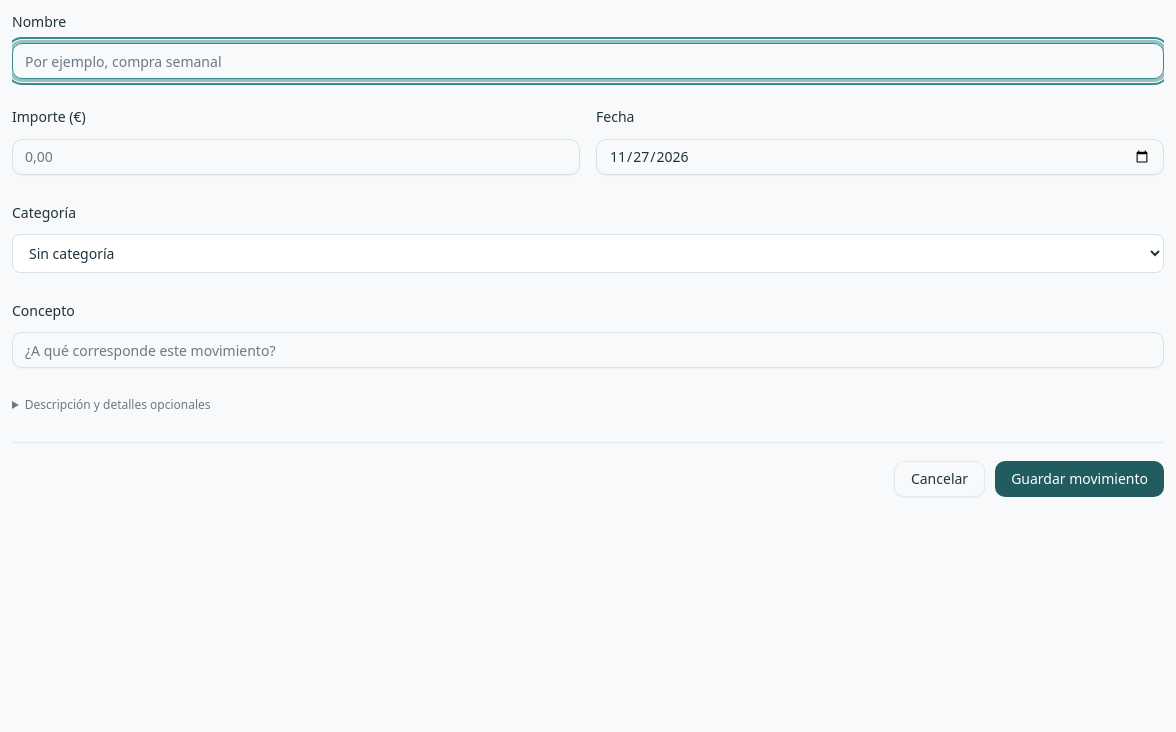
Test: formulario de gasto › muestra un fallo de persistencia y conserva lo escrito
Type "Compra" into the field labelled "Nombre" at (588,61), box left=12, top=43, right=1164, bottom=79
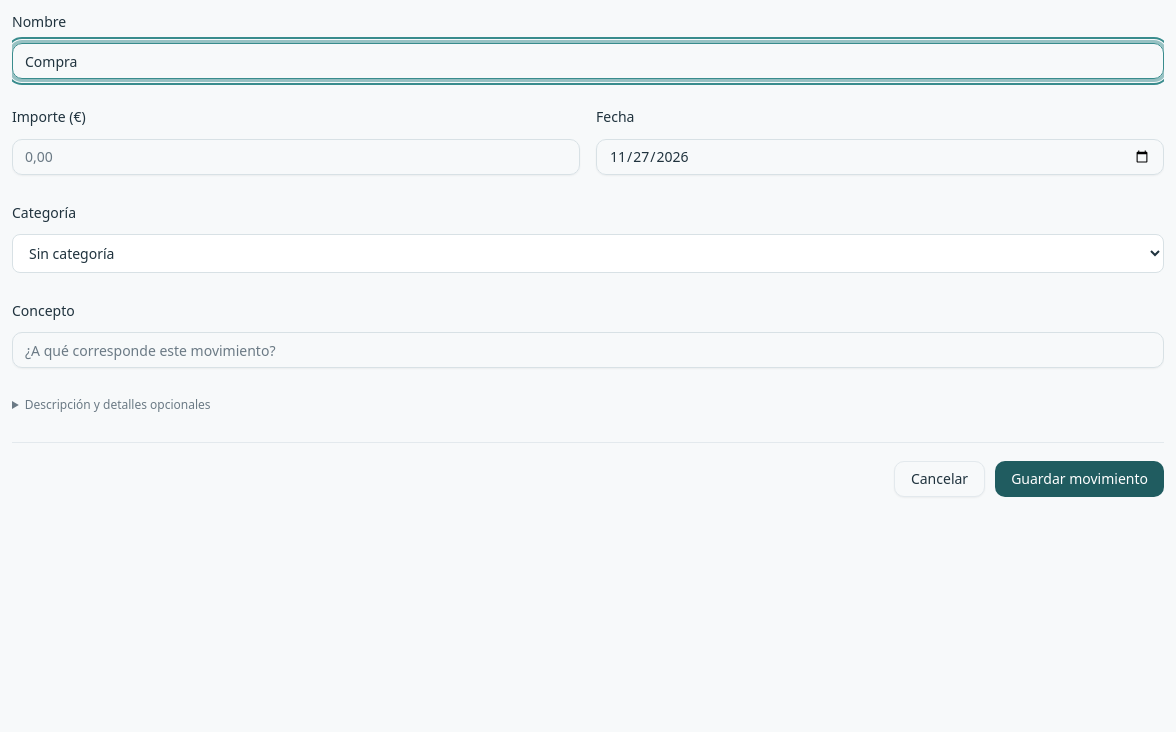
Type "23,65" into the field labelled "Importe (€)" at (296,156), box left=12, top=138, right=580, bottom=174
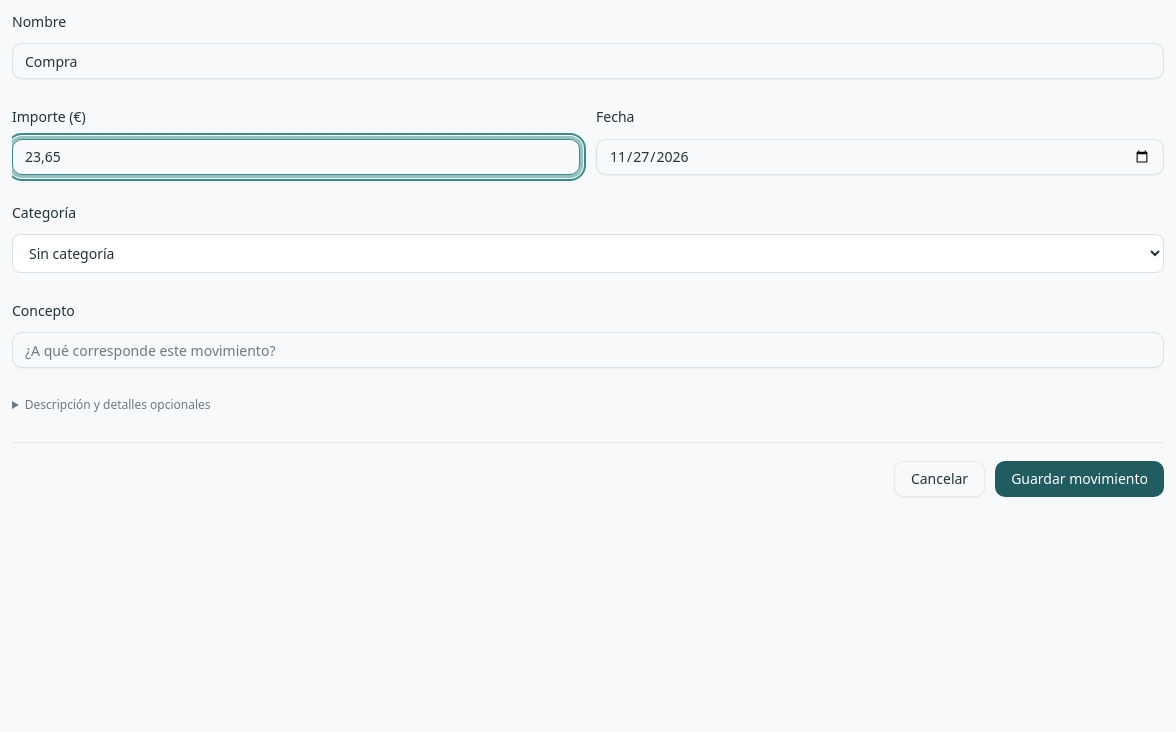
Click the button "Guardar movimiento" at (1080,479), box left=995, top=461, right=1164, bottom=497
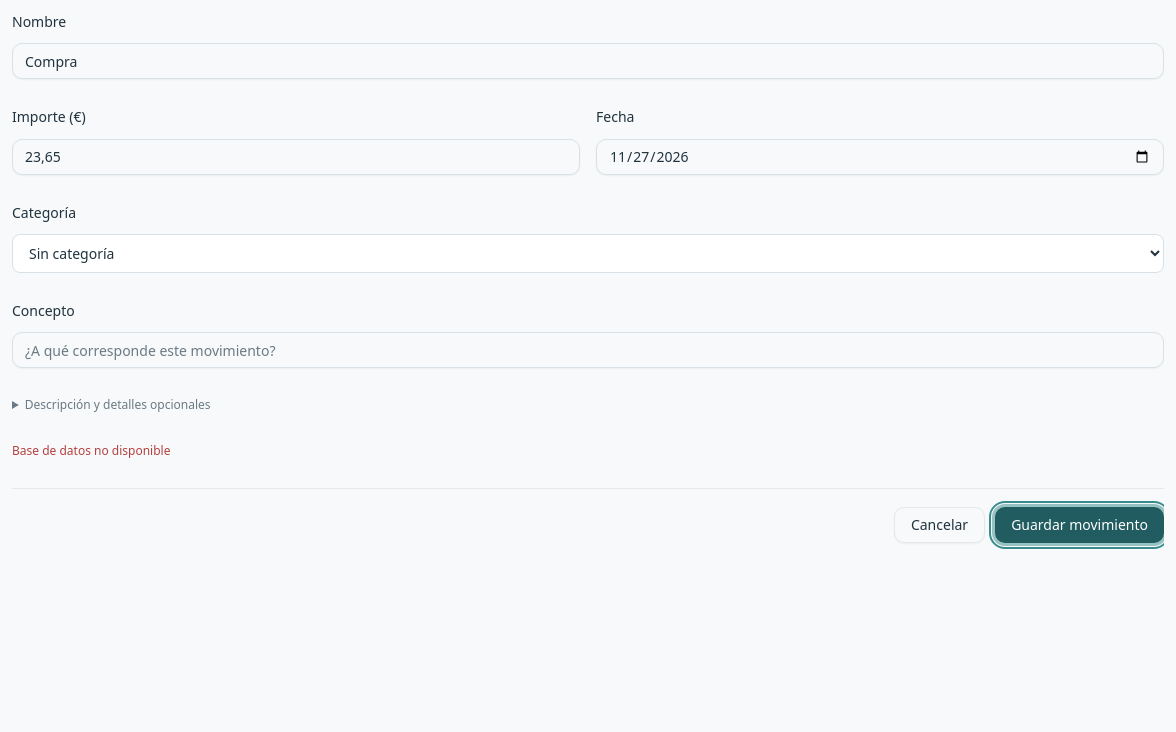
Check: the text "Base de datos no disponible" is shown, box left=12, top=442, right=170, bottom=459
